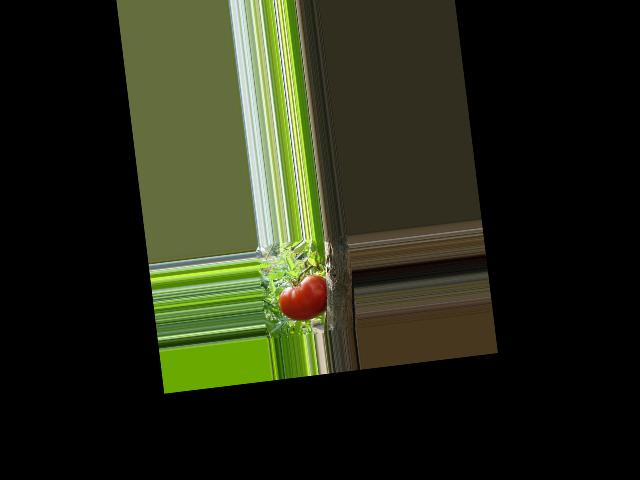tomato: (275, 272, 330, 322)
